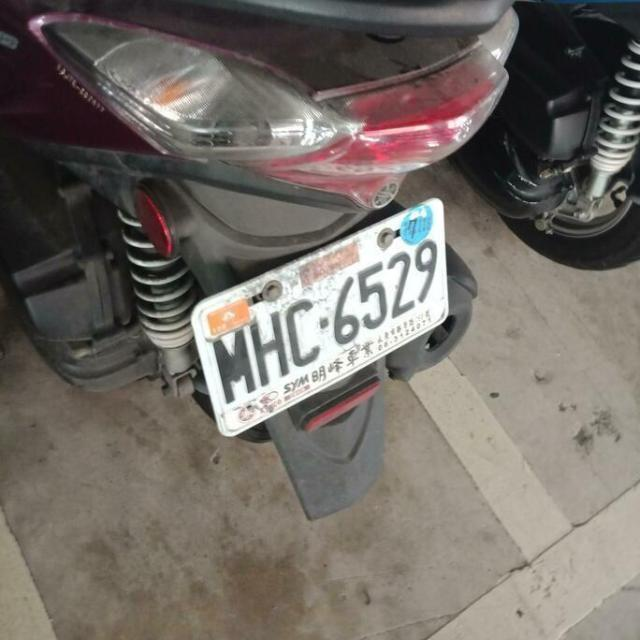W: (173, 195, 474, 446)
